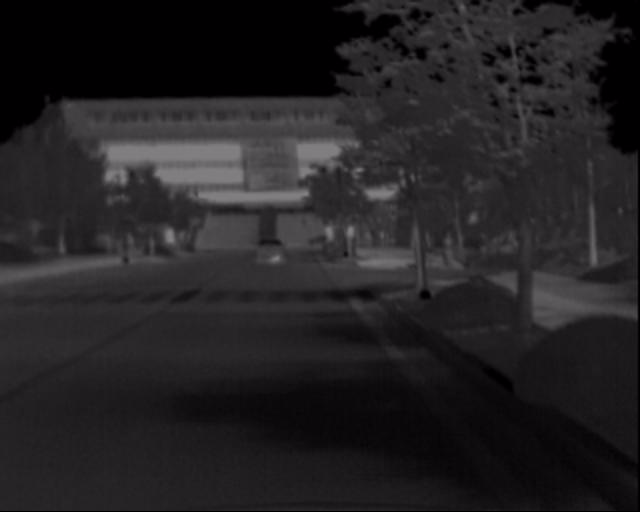person: (416, 227, 438, 276)
